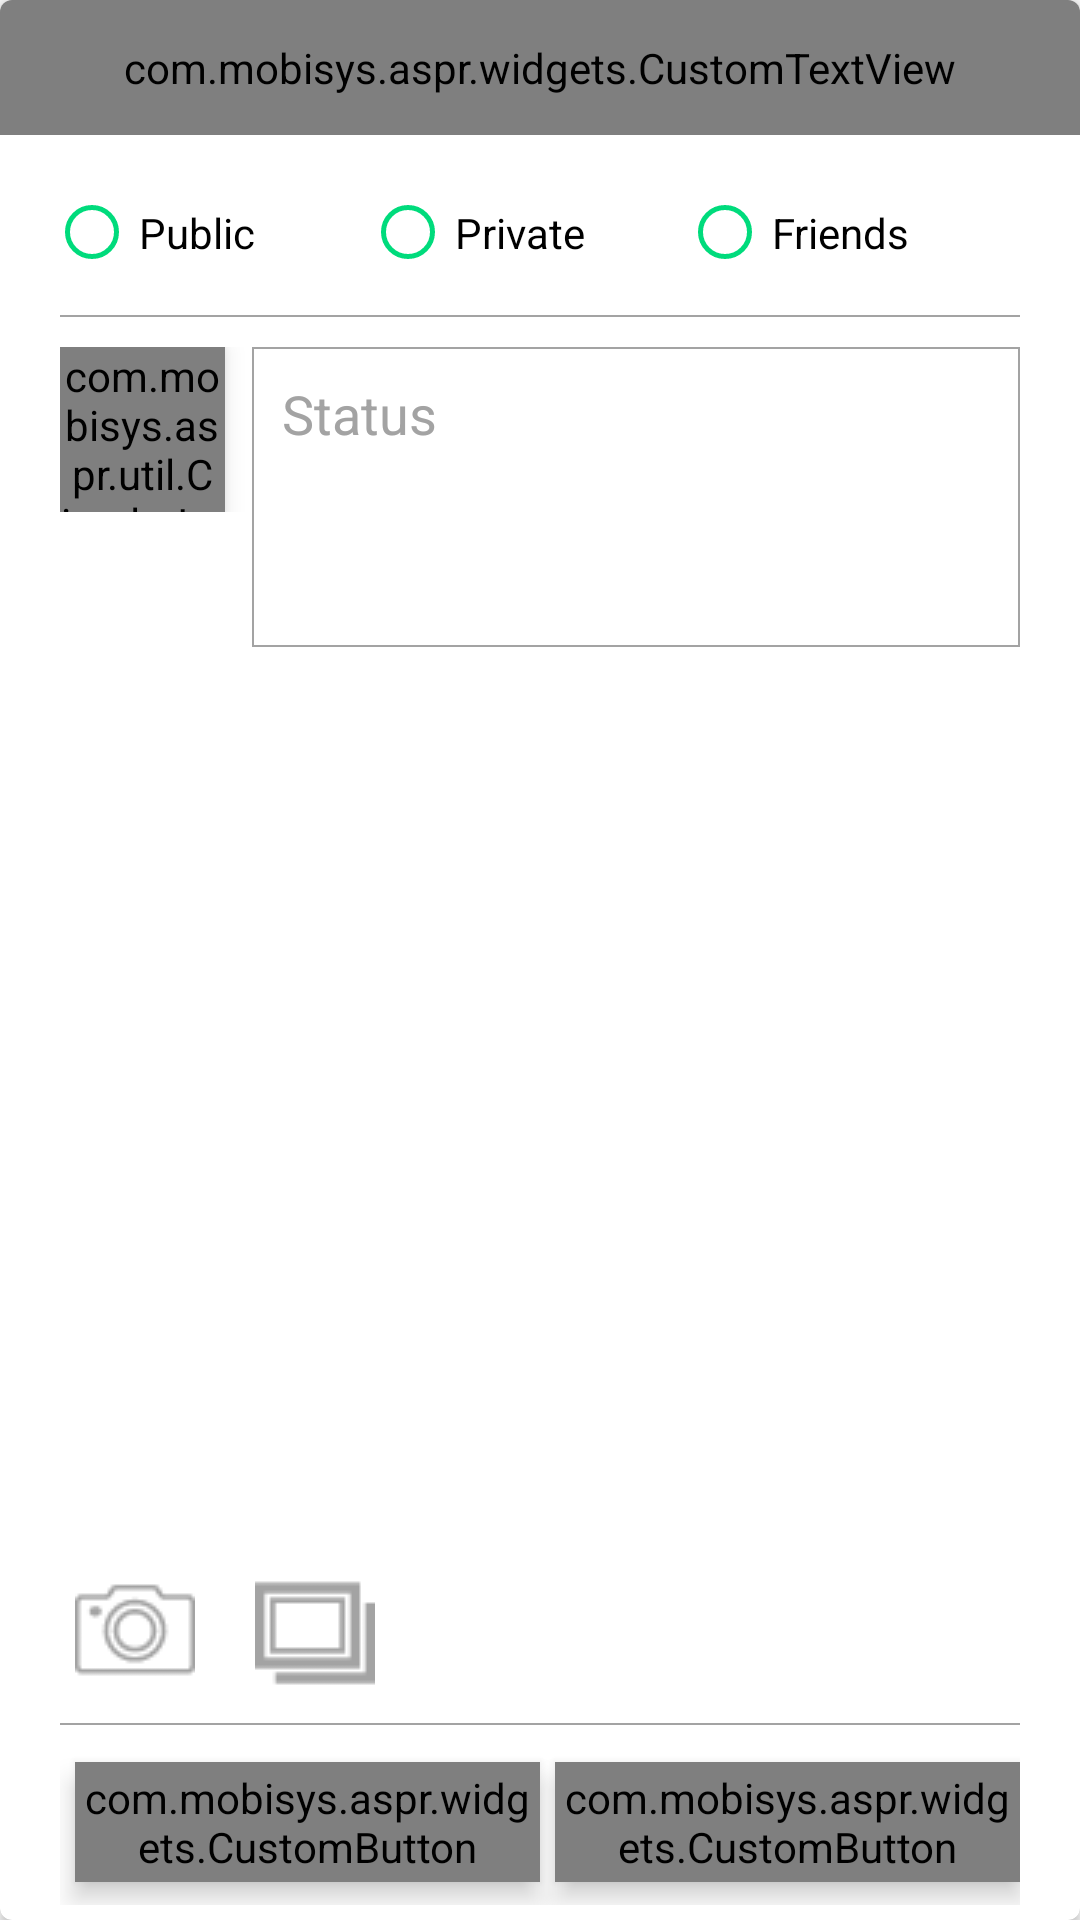

Named icons in this screenshot (1080x1920) and their bounding boxes, (x1=x1, y1=y1, x2=x2, y2=y2):
camera: (x1=75, y1=1584, x2=195, y2=1675)
gallery: (x1=255, y1=1582, x2=375, y2=1684)
